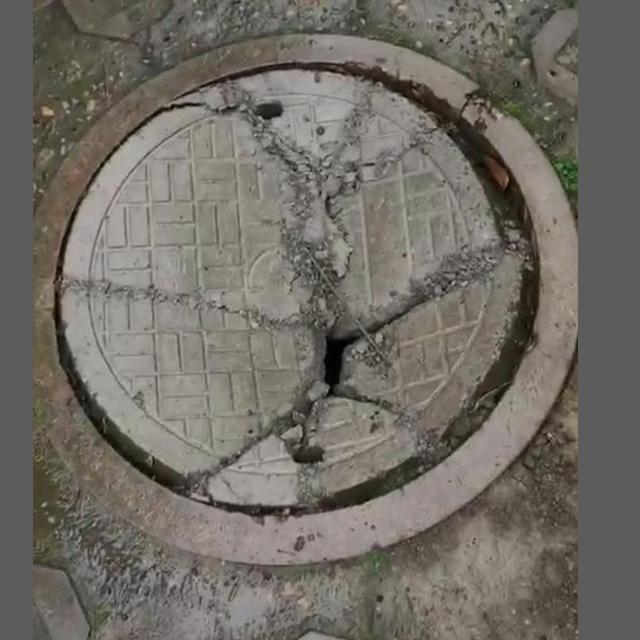broke: (50, 42, 567, 571)
